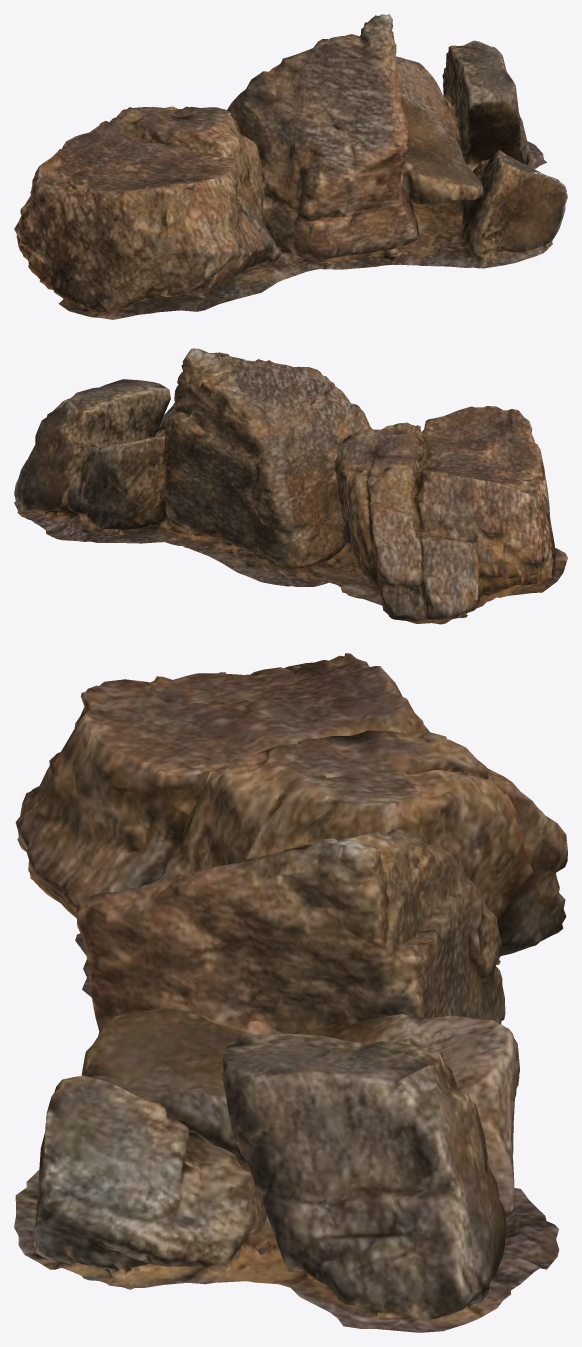
File: boulder_02.glb
3 views of the same model, one above another, from view 1: azimuth 30°, elevation 25°; view 2: azimuth 150°, elevation 25°; view 3: azimuth 270°, elevation 25° (orthographic). The views are drawn at different scales.
Parts seen in each view (by area): view 1: boulder_02; view 2: boulder_02; view 3: boulder_02.
Boxes of the visible parts, x1=… form: boulder_02: x1=14, y1=14, x2=567, y2=319; boulder_02: x1=14, y1=348, x2=567, y2=624; boulder_02: x1=14, y1=653, x2=567, y2=1332.
Size of the model in its own units: 2.53 by 0.8826 by 1.23.
1 material, 1 textured.
